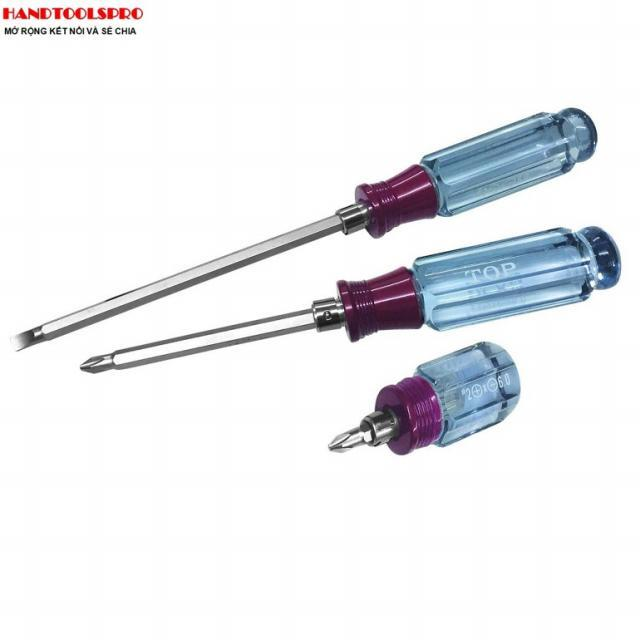screwdriver: (6, 106, 597, 359), (73, 223, 626, 376), (322, 338, 518, 462)
